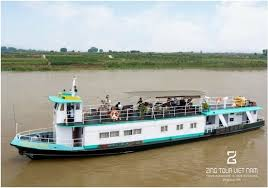tau_dansu: (19, 83, 263, 145)
